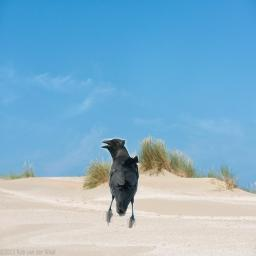Crow: (101, 135, 139, 228)
